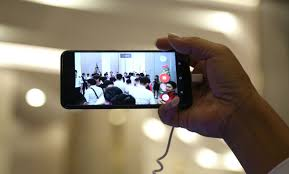vsmart: (56, 48, 193, 111)
